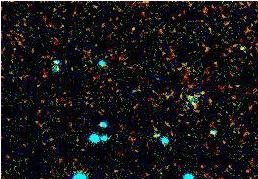star: (116, 7, 146, 37)
